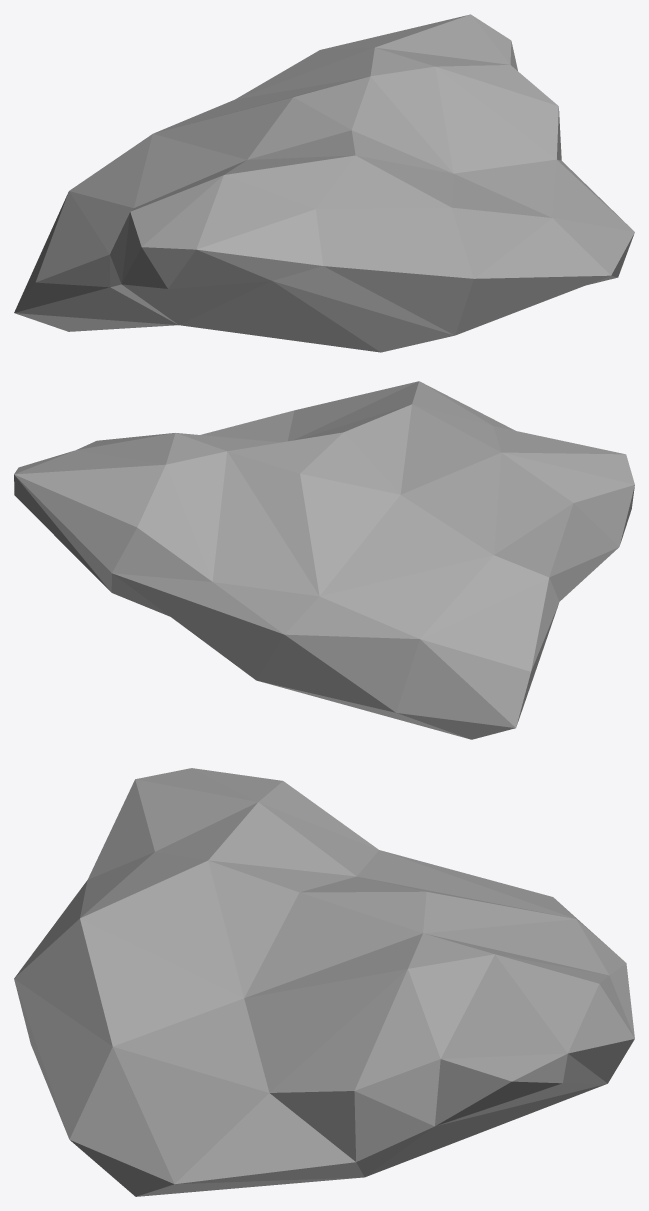
Rendered from rock3.fbx.
The picture shows the model from 3 angles, top to bottom: view 1: azimuth 30°, elevation 25°; view 2: azimuth 150°, elevation 25°; view 3: azimuth 270°, elevation 25°; orthographic projection. The views are drawn at different scales.
Visible parts, largest first — view 1: rock3; view 2: rock3; view 3: rock3.
Boxes of the visible parts, x1,y1,x2,y2 form: rock3: (14,14,634,352); rock3: (14,381,634,739); rock3: (14,768,634,1196).
Bounding box in the file's own units: 160 × 66.09 × 138.
